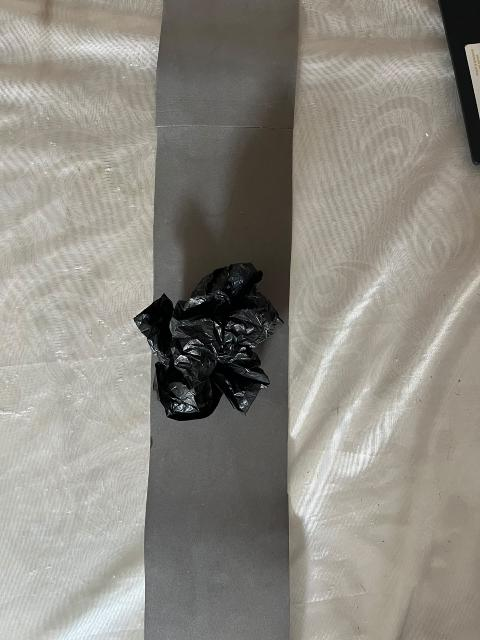LDPE: (71, 216, 340, 478)
